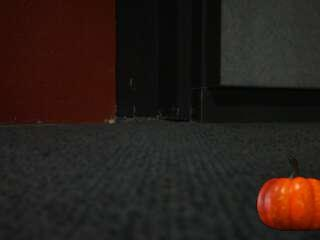Pumpkin: (258, 154, 320, 232)
